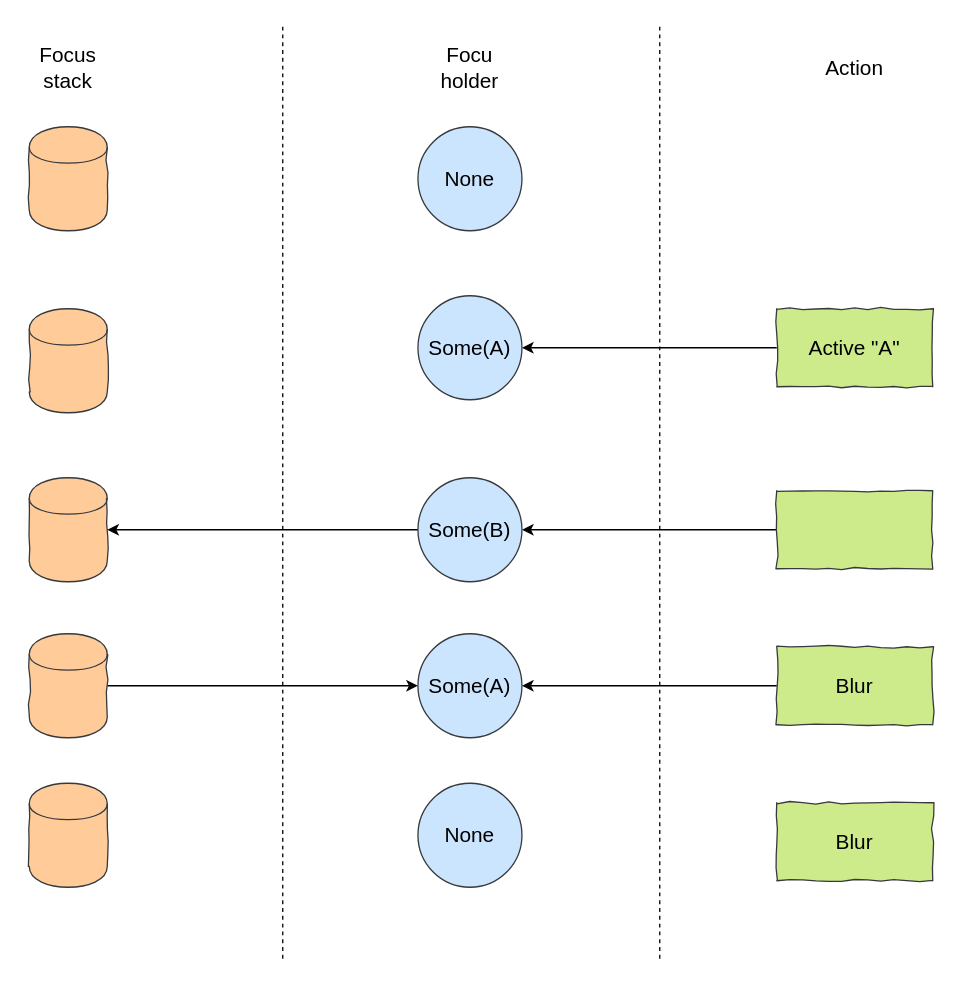
Image size: 955x983. Some labels were removed from this diagram. The box of each missing label's shape, as (x1, y1, x2, y2) in pixels:
"A": (28, 476, 107, 582)
Active "B": (775, 489, 933, 569)
